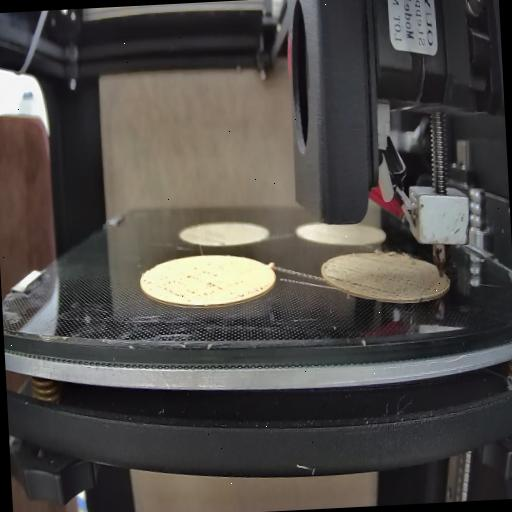under_extrusion: (324, 269, 440, 301), (144, 262, 222, 300), (225, 276, 266, 310)
